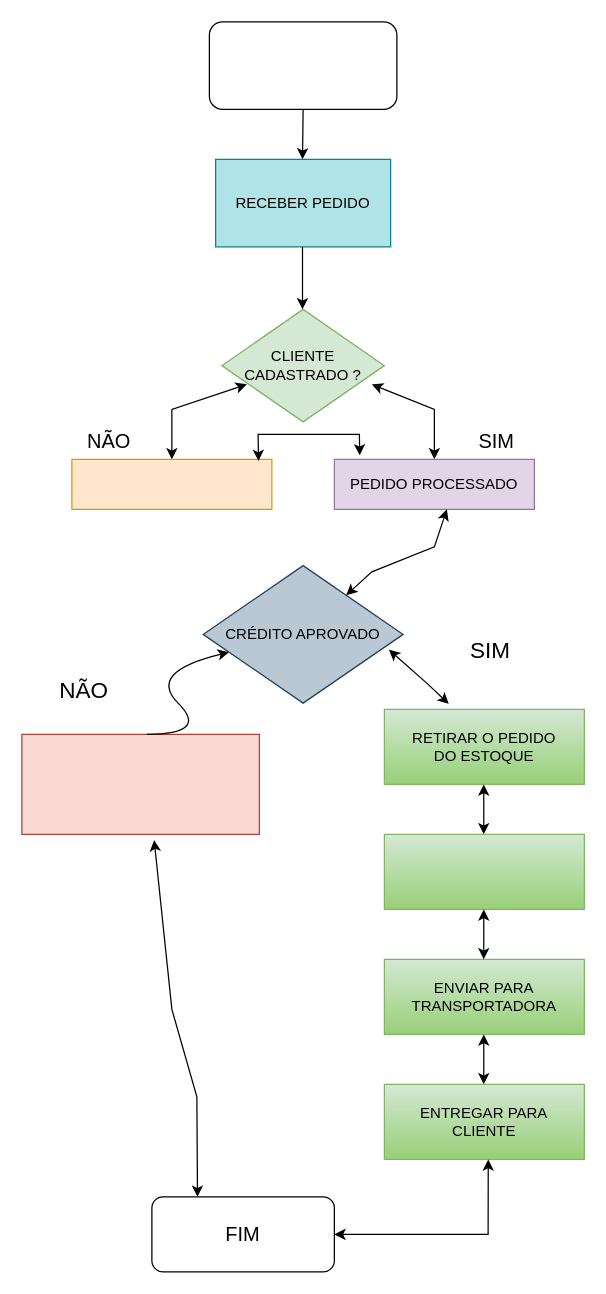
Image size: 606x1294. Some labels were removed from this diagram. Each missing label, with the centre of its shape:
"CADASTRAR CLIENTE" goes at [171,483].
"EMBALAR PRODUTO" goes at [483,871].
"ENVIO PARA CLIENTE PEDIDO NÃO APROVADO" goes at [140,783].
"Inicio" goes at [302,65].
